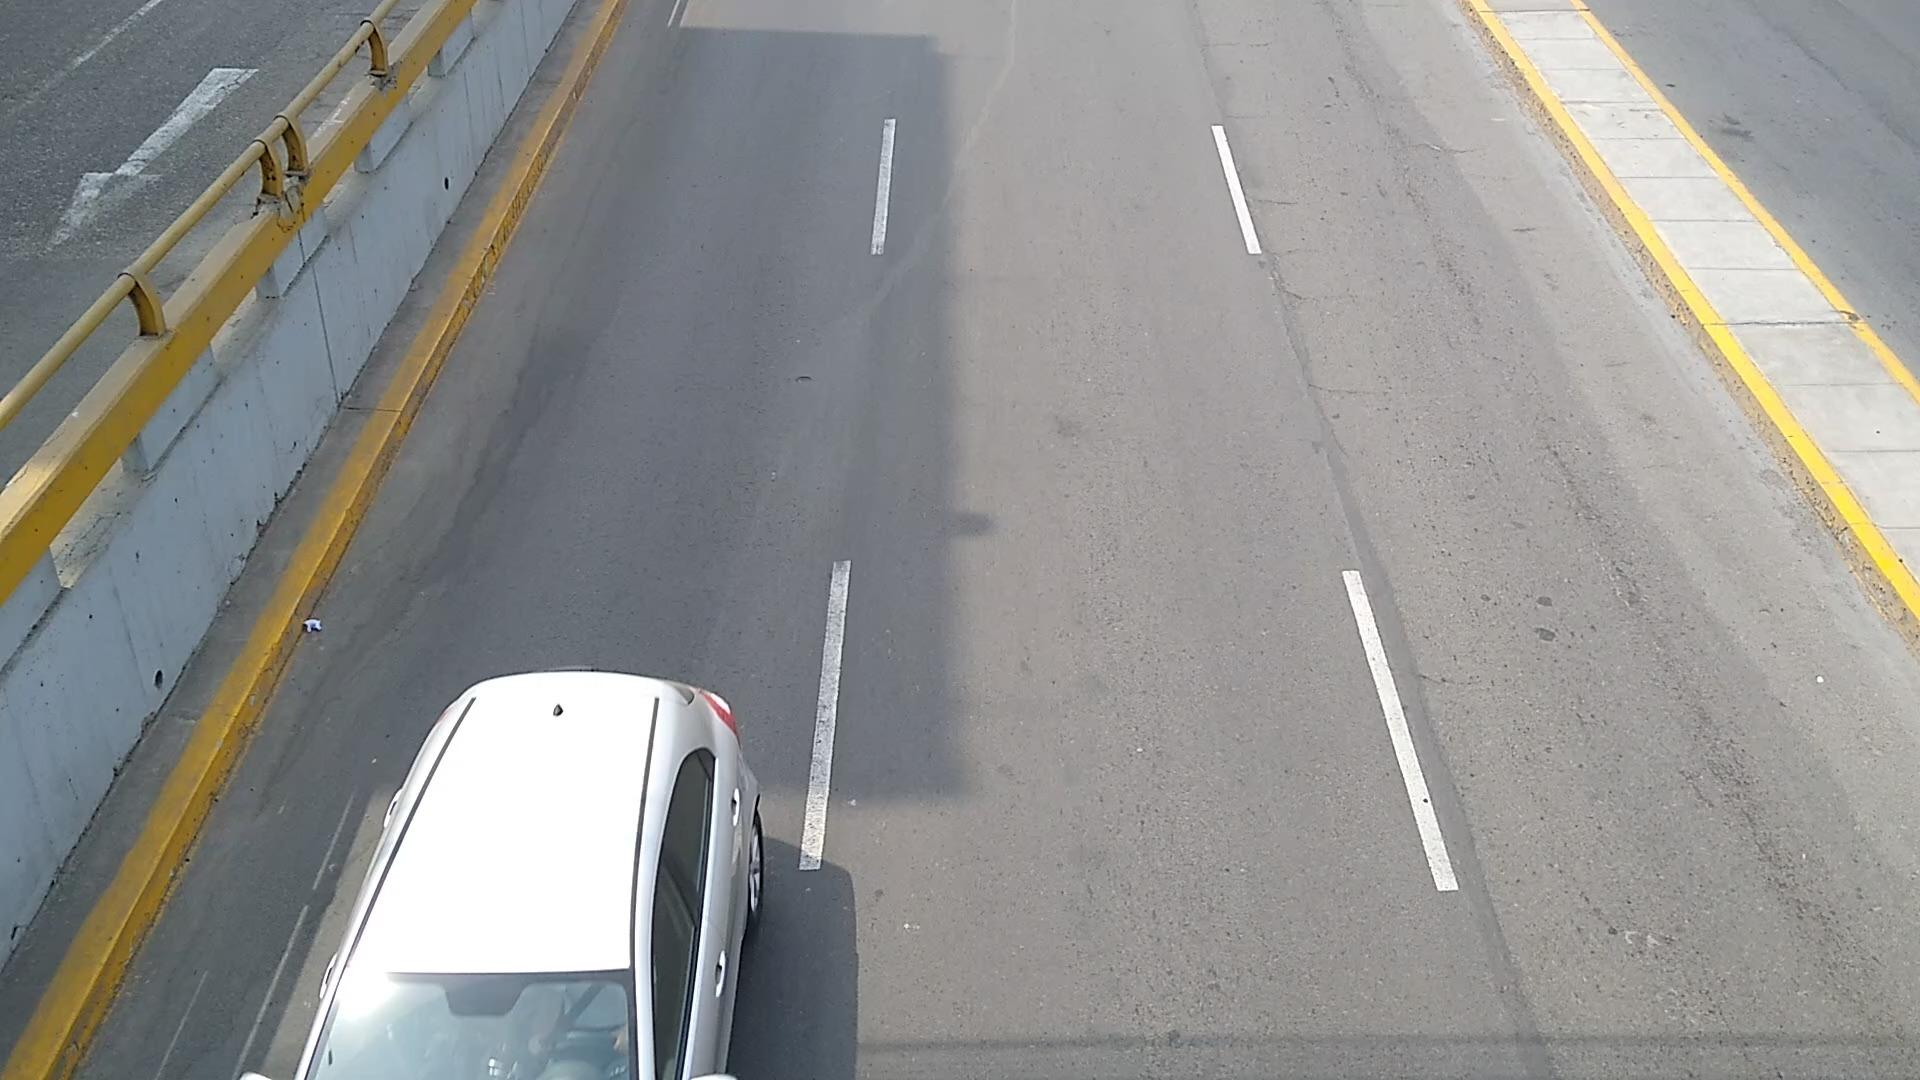car: (300, 671, 765, 1080)
